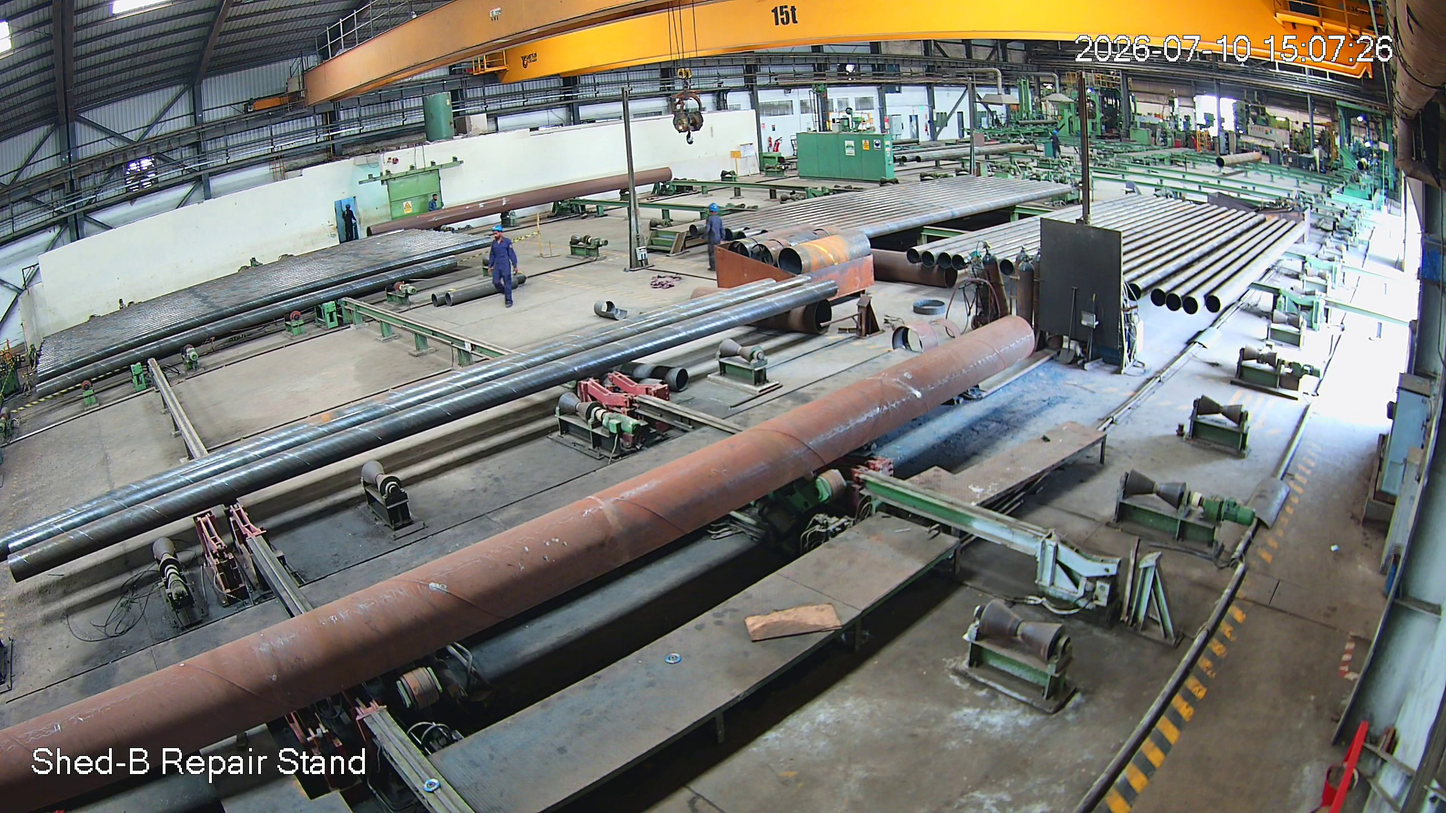Helmet: (707, 200, 726, 219), (493, 222, 508, 242)
Person: (487, 227, 520, 307), (706, 204, 726, 261)
